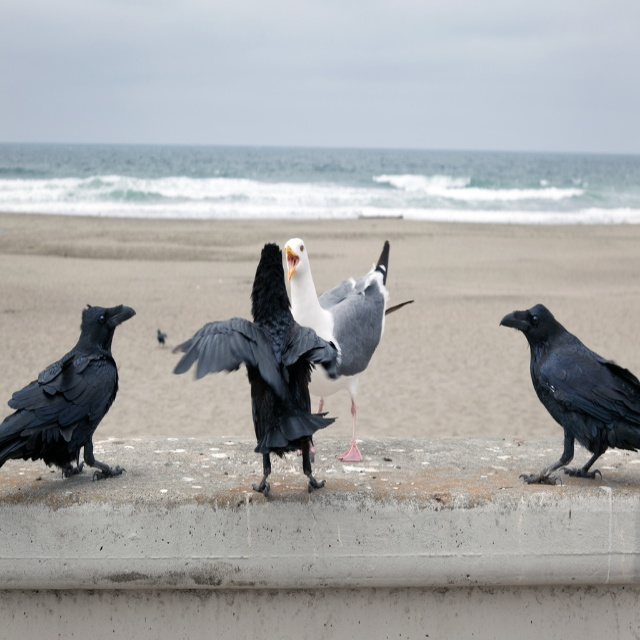Raven: (172, 238, 346, 496), (500, 304, 640, 489), (0, 304, 136, 481)
